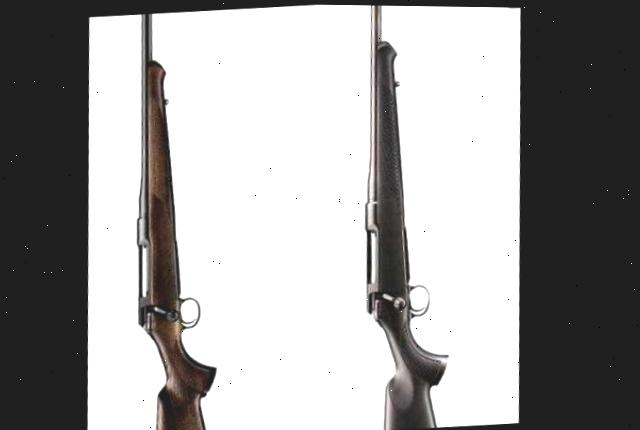rifle: (86, 4, 304, 430), (306, 4, 507, 430)
